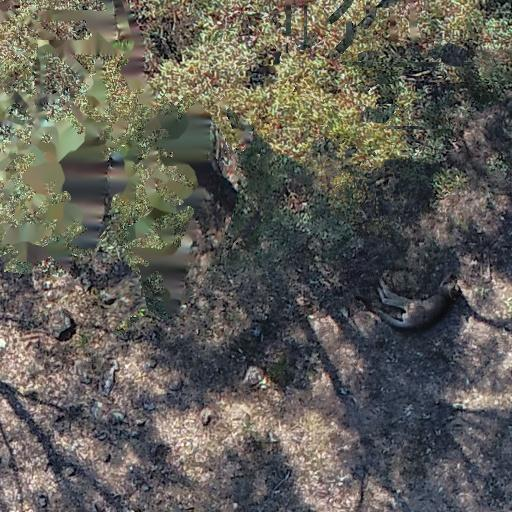stone: (47, 309, 76, 340), (243, 364, 265, 386), (140, 358, 158, 373), (200, 408, 215, 423), (169, 379, 185, 391), (98, 450, 112, 462), (38, 495, 49, 506), (134, 418, 147, 426), (130, 429, 143, 437), (65, 466, 76, 475), (140, 483, 151, 492)
